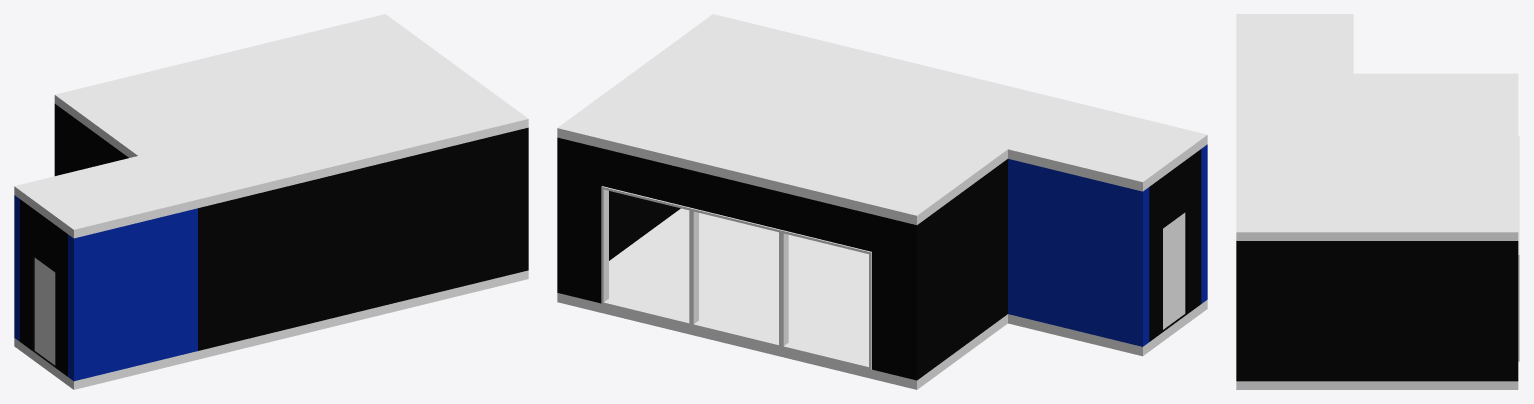
Rendered from interior walls 2.glb.
The picture shows the model from 3 angles, left to right: view 1: azimuth 30°, elevation 25°; view 2: azimuth 150°, elevation 25°; view 3: azimuth 270°, elevation 25°; orthographic projection. The views are drawn at different scales.
Parts seen in each view (by area): view 1: Line004, Box007, Box001, Box004, Line005, Box006, Box002; view 2: Line004, Box007, Line005, Box002, Box011, Box004, Box006, Box001; view 3: Line004, Box007, Line005, Box011.
Part boxes in pixels (bbox=[...]): Line004: bbox=[14, 14, 528, 238]; Box007: bbox=[54, 104, 528, 350]; Box001: bbox=[68, 208, 197, 381]; Box004: bbox=[20, 199, 67, 376]; Line005: bbox=[14, 270, 528, 389]; Box006: bbox=[34, 258, 55, 365]; Box002: bbox=[14, 195, 19, 341]; Line004: bbox=[557, 14, 1207, 224]; Box007: bbox=[557, 137, 1007, 380]; Line005: bbox=[557, 208, 1207, 389]; Box002: bbox=[1008, 159, 1149, 346]; Box011: bbox=[601, 186, 871, 369]; Box004: bbox=[1149, 149, 1201, 341]; Box006: bbox=[1163, 212, 1185, 329]; Box001: bbox=[1201, 144, 1207, 303]; Line004: bbox=[1236, 14, 1518, 240]; Box007: bbox=[1236, 241, 1518, 381]; Line005: bbox=[1236, 381, 1518, 389]; Box011: bbox=[1518, 136, 1519, 361].
Size of what is drawn, in the model's own units: 11001 by 3700 by 6030.
